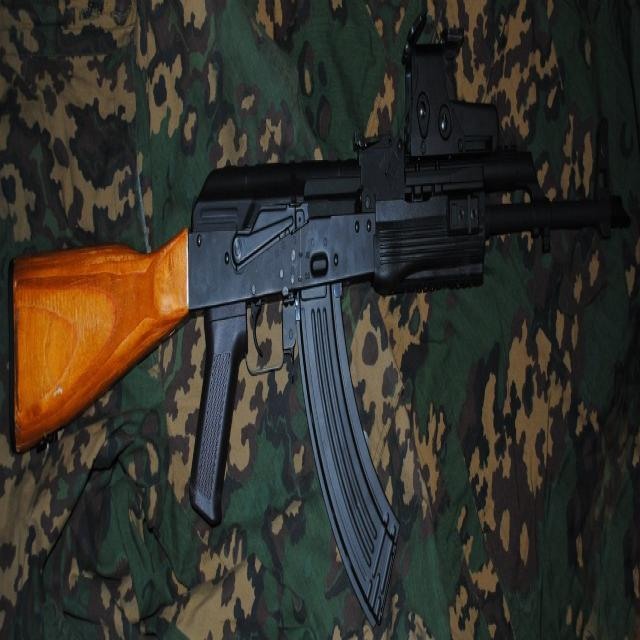firearm: (6, 8, 634, 640)
